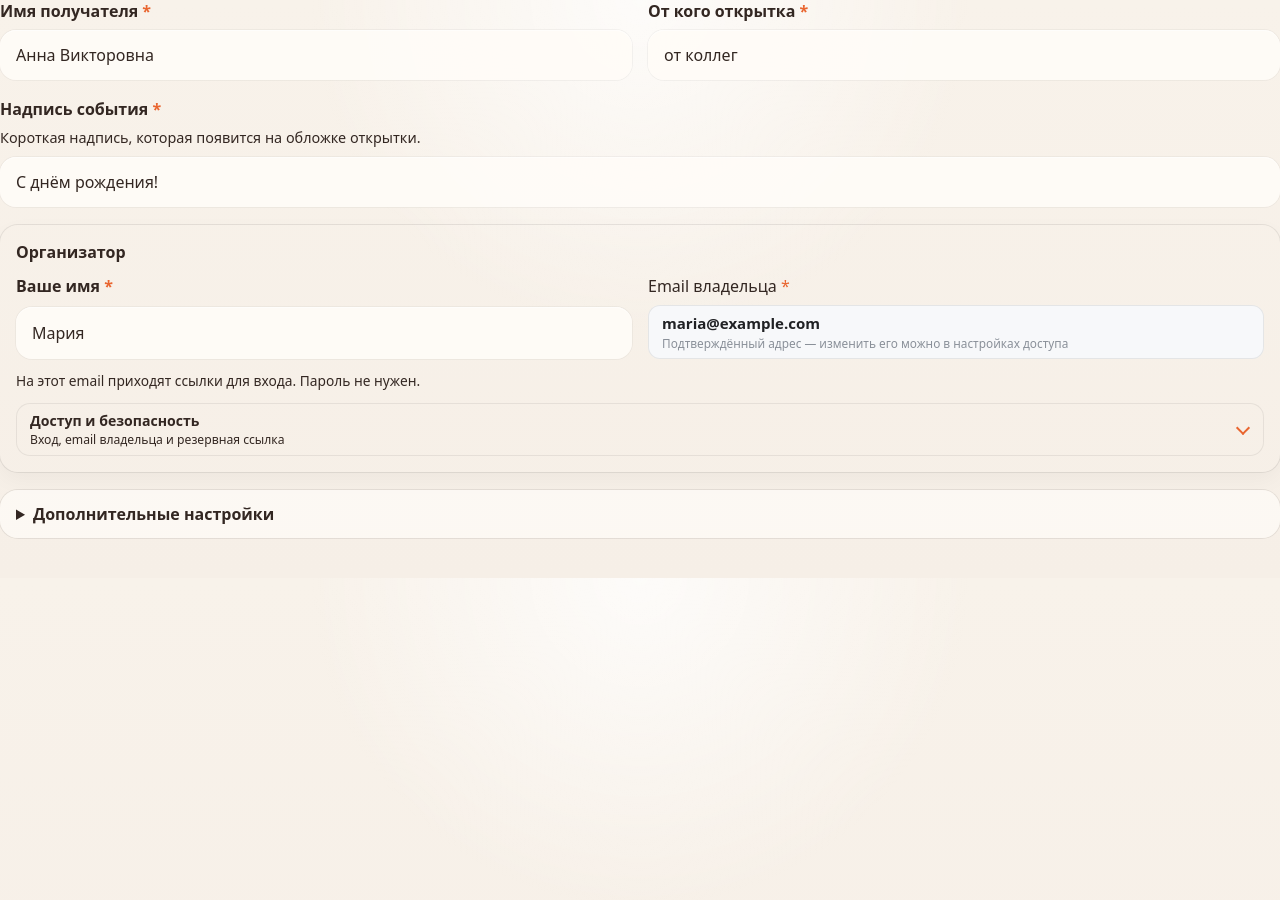
Test: BasicsSettingsForm mobile summary › uses the empty reserve-link state after revocation
Step 1. Click the heading "Доступ и безопасность" → (157, 429), box [30,411,285,448]
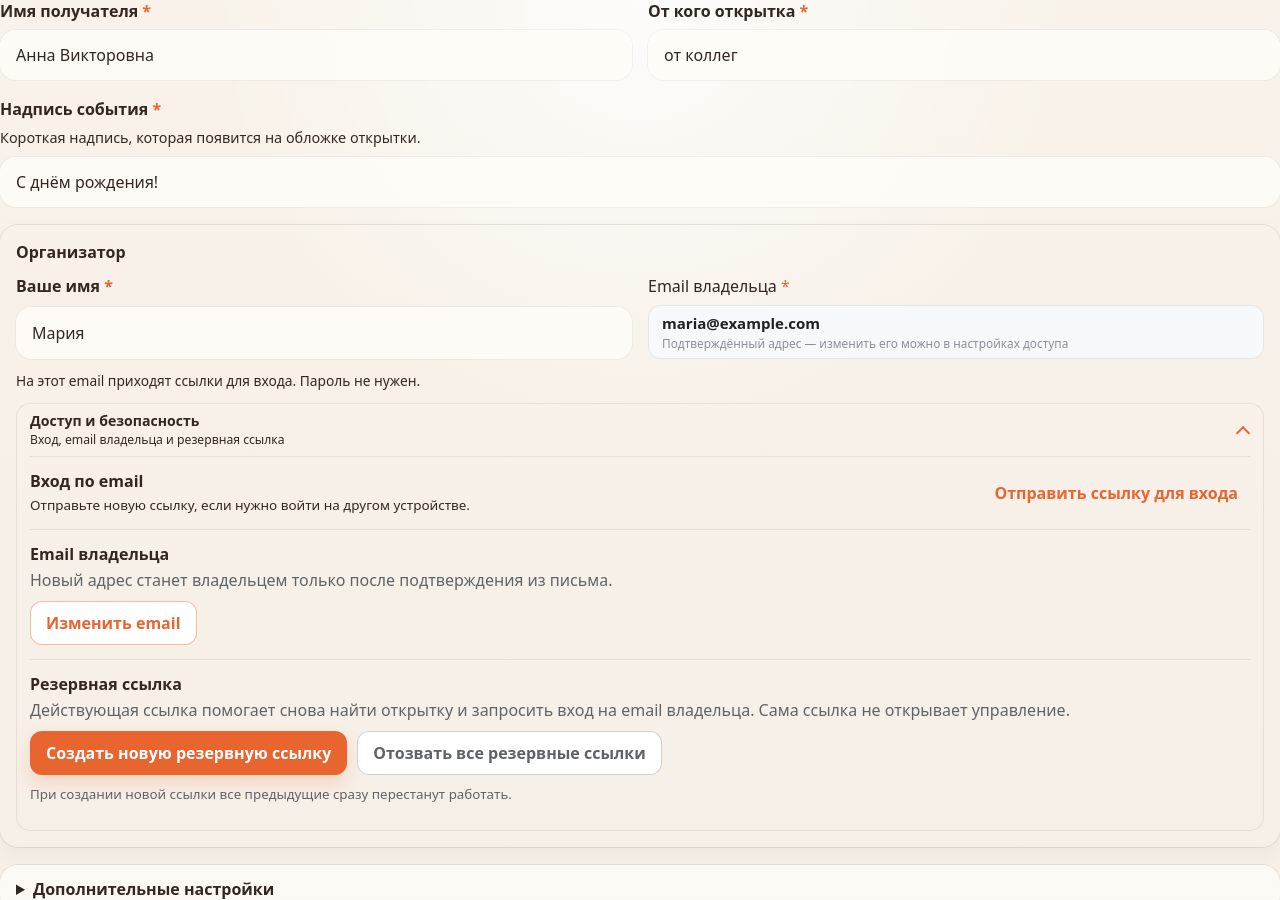
Step 2. Click the button "Отозвать все резервные ссылки" → (510, 753), box [357,731,662,775]
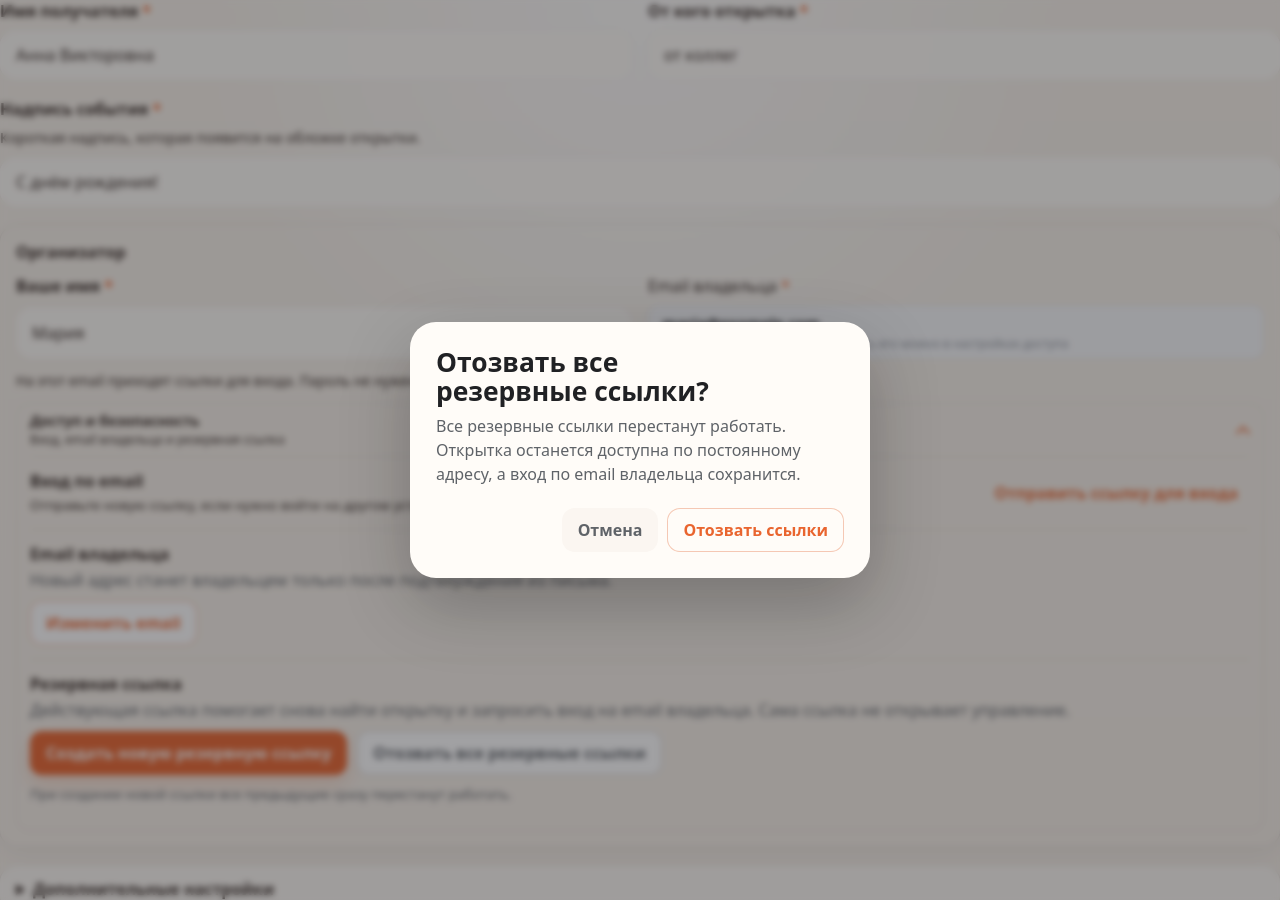
Step 3. Click the button "Отозвать ссылки" → (756, 530), box [667,508,844,552]
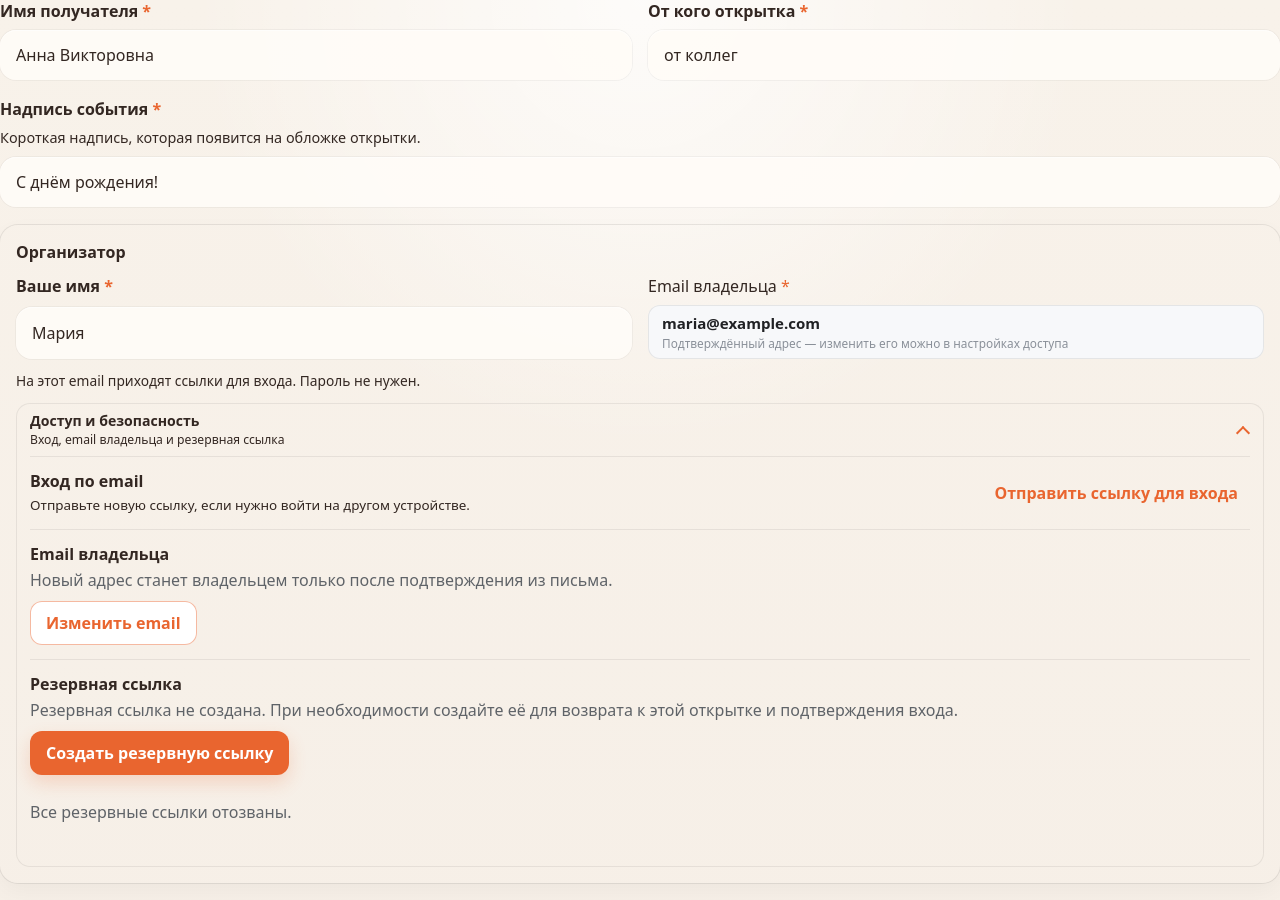
Expected: the text "Резервная ссылка не создана" is shown, [30,699,958,721]
Expected: the button "Создать резервную ссылку" is shown, [30,731,290,775]
Expected: the button "Отозвать все резервные ссылки" is gone
